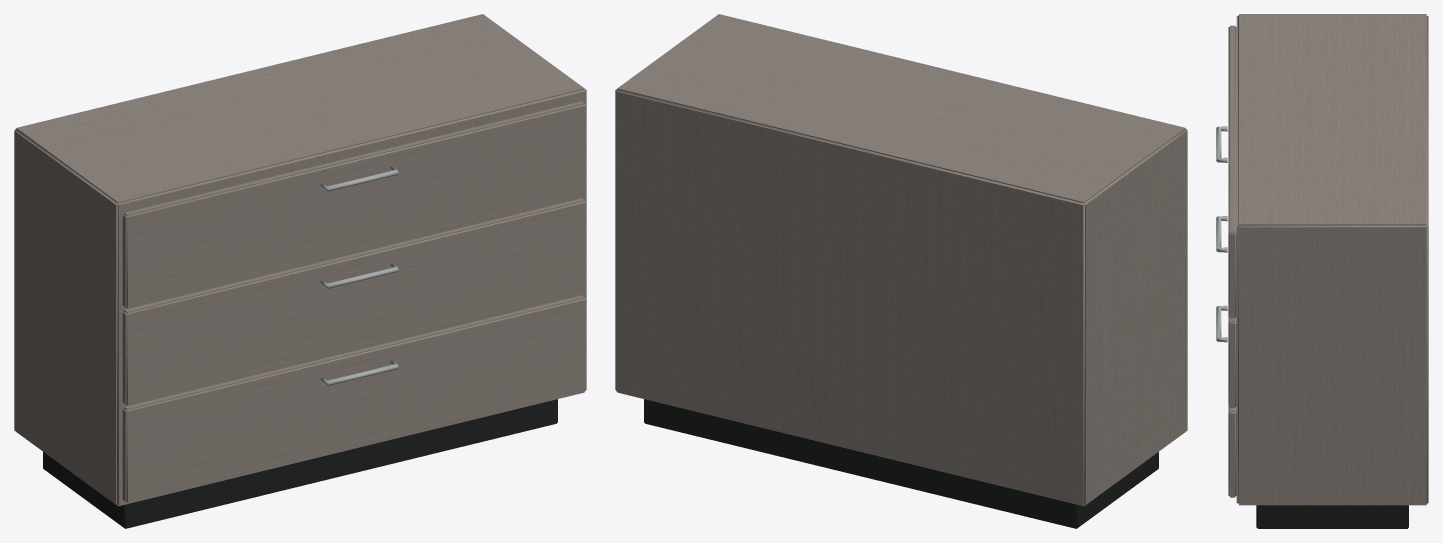
Rendered from modern.dresser.gltf.
3 renders of one model, left to right at view 1: azimuth 30°, elevation 25°; view 2: azimuth 150°, elevation 25°; view 3: azimuth 270°, elevation 25°, orthographic. The views are drawn at different scales.
Parts seen in each view (by area): view 1: modern.dresser.carcass; view 2: modern.dresser.carcass; view 3: modern.dresser.carcass.
Part boxes in pixels (x1,y1,x2,y2): modern.dresser.carcass: (14,14,586,528); modern.dresser.carcass: (615,14,1187,528); modern.dresser.carcass: (1216,14,1428,528).
Size of the model in its own units: 1.15 by 0.79 by 0.487.
Materials: 3 (1 with a texture image).
